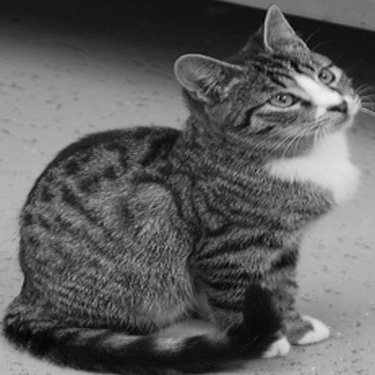cat: (1, 3, 364, 368)
